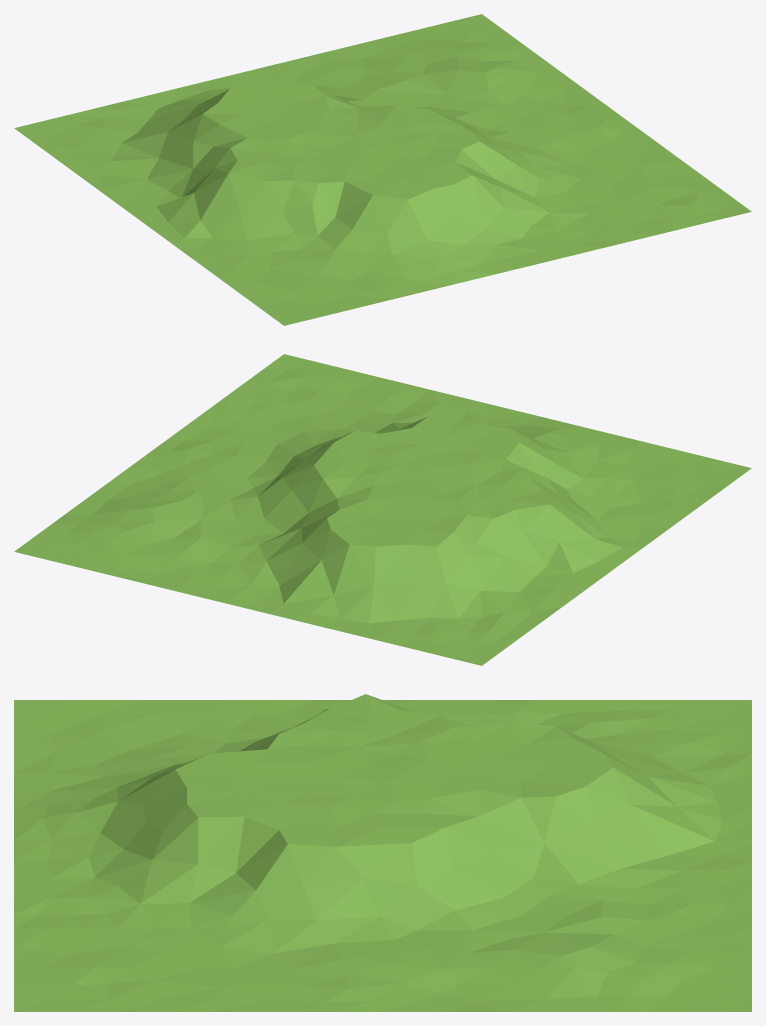
Rendered from MT_Terrain_M_c_16.fbx.
The picture shows the model from 3 angles, top to bottom: view 1: azimuth 30°, elevation 25°; view 2: azimuth 150°, elevation 25°; view 3: azimuth 270°, elevation 25°; orthographic projection. The views are drawn at different scales.
Parts seen in each view (by area): view 1: MT_Terrain_M_c_16; view 2: MT_Terrain_M_c_16; view 3: MT_Terrain_M_c_16.
Boxes of the visible parts, x1=… form: MT_Terrain_M_c_16: x1=14, y1=14, x2=751, y2=325; MT_Terrain_M_c_16: x1=14, y1=354, x2=751, y2=665; MT_Terrain_M_c_16: x1=14, y1=694, x2=751, y2=1011.
Size of the model in its own units: 5000 by 418 by 5000.
